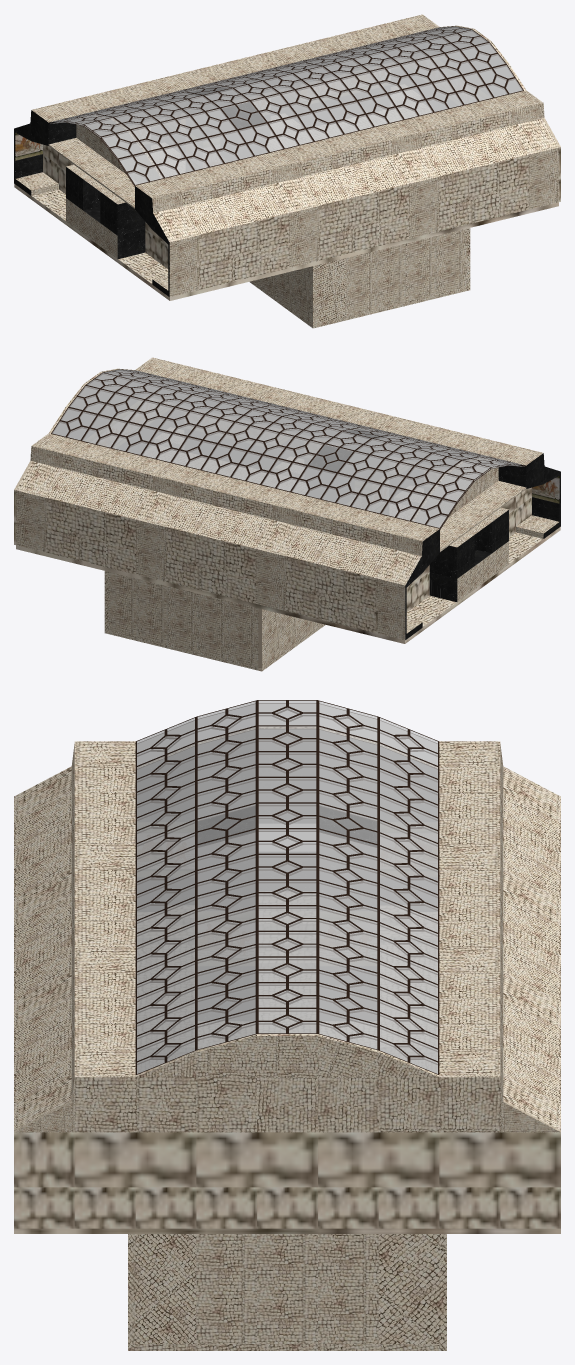
File: SwimmingPoolRoom.fbx
3 renders of one model, top to bottom at view 1: azimuth 30°, elevation 25°; view 2: azimuth 150°, elevation 25°; view 3: azimuth 270°, elevation 25°, orthographic. The views are drawn at different scales.
Visible parts, largest first — view 1: SwimmingPoolRoomCeiling, SwimmingPool, SwimmingPoolRoomWallLeft, SwimmingPoolRoomWallLeft.001, SwimmingPoolRoomWallLeft.003, SwimmingPoolRoomWallEntrance, SwimmingPoolRoomWallLeftBt.003, SwimmingPoolRoomFloor, SwimmingPoolRoomWallLeftBt, SwimmingPoolRoomWallLeftBt.002, SwimmingPoolRoomWallLeftBt.001, SwimmingPoolRoomWallRightBt.003 (+12 smaller); view 2: SwimmingPoolRoomCeiling, SwimmingPool, SwimmingPoolRoomWallRight, SwimmingPoolRoomWallRight.002, SwimmingPoolRoomWallRight.003, SwimmingPoolRoomWallEntrance, SwimmingPoolRoomWallRightBt.003, SwimmingPoolRoomFloor, SwimmingPoolRoomWallRightBt, SwimmingPoolRoomWallRightBt.002, SwimmingPoolRoomWallRightBt.001, SwimmingPoolRoomWallLeftBt.003 (+12 smaller); view 3: SwimmingPoolRoomCeiling, SwimmingPool, SwimmingPoolRoomWallCeilingFront.001, SwimmingPoolRoomWallB1Back, SwimmingPoolRoomWallB0Back, SwimmingPoolRoomWallLeft.003, SwimmingPoolRoomWallLeft, SwimmingPoolRoomWallRight.003, SwimmingPoolRoomWallRight, SwimmingPoolRoomWallLeft.001, SwimmingPoolRoomWallRight.002, SwimmingPoolRoomWallB1Back.005 (+13 smaller).
Part boxes in pixels (x1,y1,x2,y2): SwimmingPoolRoomCeiling: [49, 26, 523, 186]; SwimmingPool: [249, 228, 470, 328]; SwimmingPoolRoomWallLeft: [165, 156, 289, 289]; SwimmingPoolRoomWallLeft.001: [285, 127, 408, 260]; SwimmingPoolRoomWallLeft.003: [405, 98, 528, 231]; SwimmingPoolRoomWallEntrance: [66, 164, 145, 259]; SwimmingPoolRoomWallLeftBt.003: [135, 178, 199, 297]; SwimmingPoolRoomFloor: [14, 184, 558, 300]; SwimmingPoolRoomWallLeftBt: [255, 149, 319, 267]; SwimmingPoolRoomWallLeftBt.002: [494, 91, 558, 209]; SwimmingPoolRoomWallLeftBt.001: [375, 120, 438, 238]; SwimmingPoolRoomWallRightBt.003: [14, 102, 78, 195]; SwimmingPoolRoomCeiling: [51, 369, 526, 529]; SwimmingPool: [104, 571, 325, 671]; SwimmingPoolRoomWallRight: [285, 499, 409, 632]; SwimmingPoolRoomWallRight.002: [166, 470, 289, 603]; SwimmingPoolRoomWallRight.003: [46, 441, 169, 574]; SwimmingPoolRoomWallEntrance: [429, 507, 508, 602]; SwimmingPoolRoomWallRightBt.003: [375, 521, 439, 640]; SwimmingPoolRoomFloor: [16, 527, 560, 643]; SwimmingPoolRoomWallRightBt: [255, 492, 319, 610]; SwimmingPoolRoomWallRightBt.002: [16, 434, 80, 552]; SwimmingPoolRoomWallRightBt.001: [136, 463, 199, 581]; SwimmingPoolRoomWallLeftBt.003: [496, 445, 560, 538]; SwimmingPoolRoomCeiling: [135, 700, 439, 1074]; SwimmingPool: [128, 1234, 446, 1350]; SwimmingPoolRoomWallCeilingFront.001: [74, 1034, 500, 1132]; SwimmingPoolRoomWallB1Back: [74, 1132, 560, 1187]; SwimmingPoolRoomWallB0Back: [14, 1187, 560, 1228]; SwimmingPoolRoomWallLeft.003: [14, 972, 135, 1104]; SwimmingPoolRoomWallLeft: [14, 767, 135, 898]; SwimmingPoolRoomWallRight.003: [439, 972, 560, 1104]; SwimmingPoolRoomWallRight: [439, 767, 560, 898]; SwimmingPoolRoomWallLeft.001: [14, 870, 135, 1001]; SwimmingPoolRoomWallRight.002: [439, 870, 560, 1001]; SwimmingPoolRoomWallB1Back.005: [14, 1132, 74, 1187].
Bounding box in the file's own units: 2615 × 1325 × 1800.
